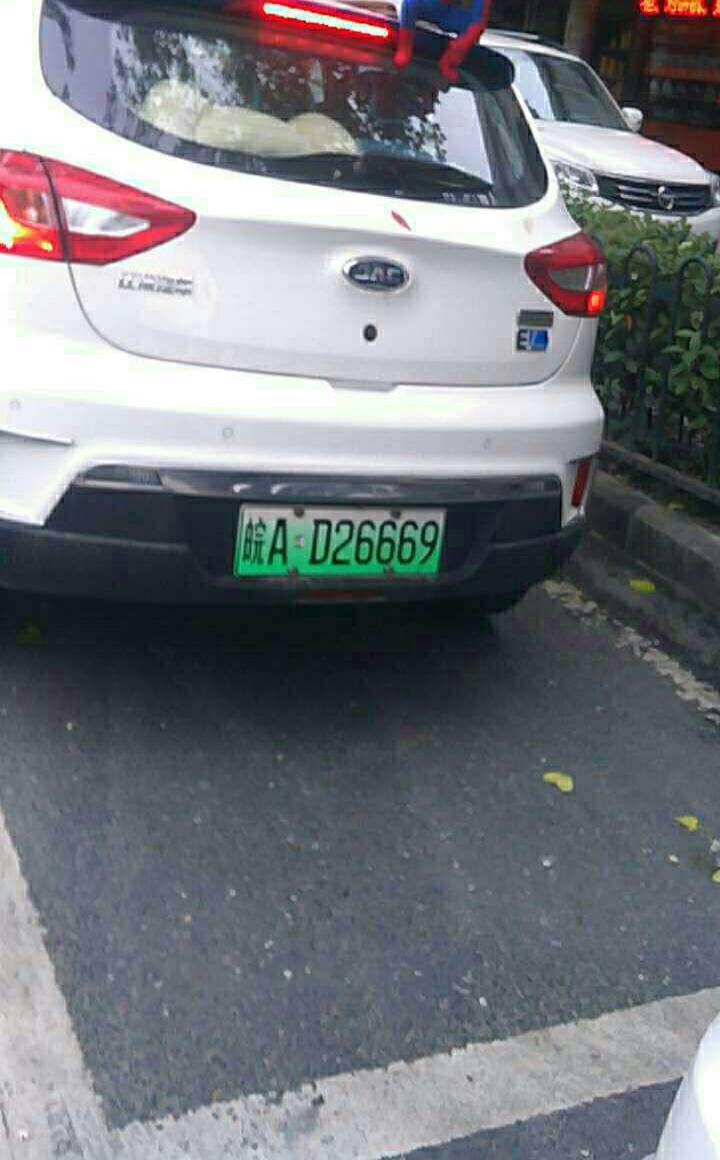car_id: (235, 505, 447, 574)
